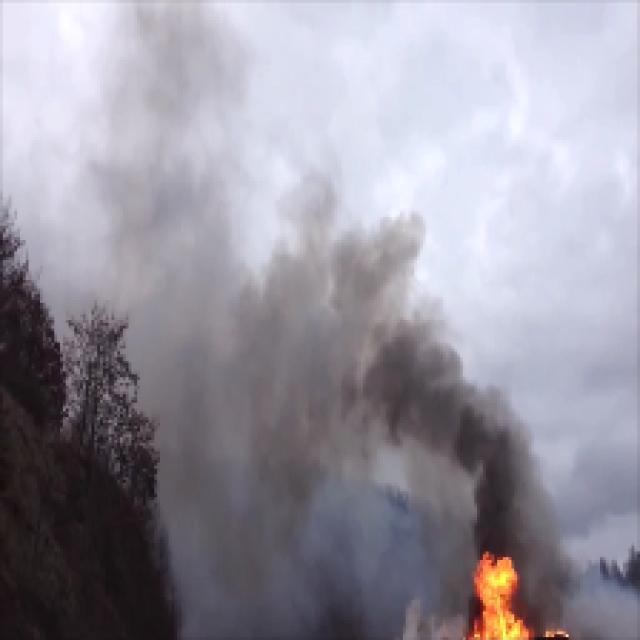smoke: (170, 230, 436, 465), (444, 376, 554, 543)
